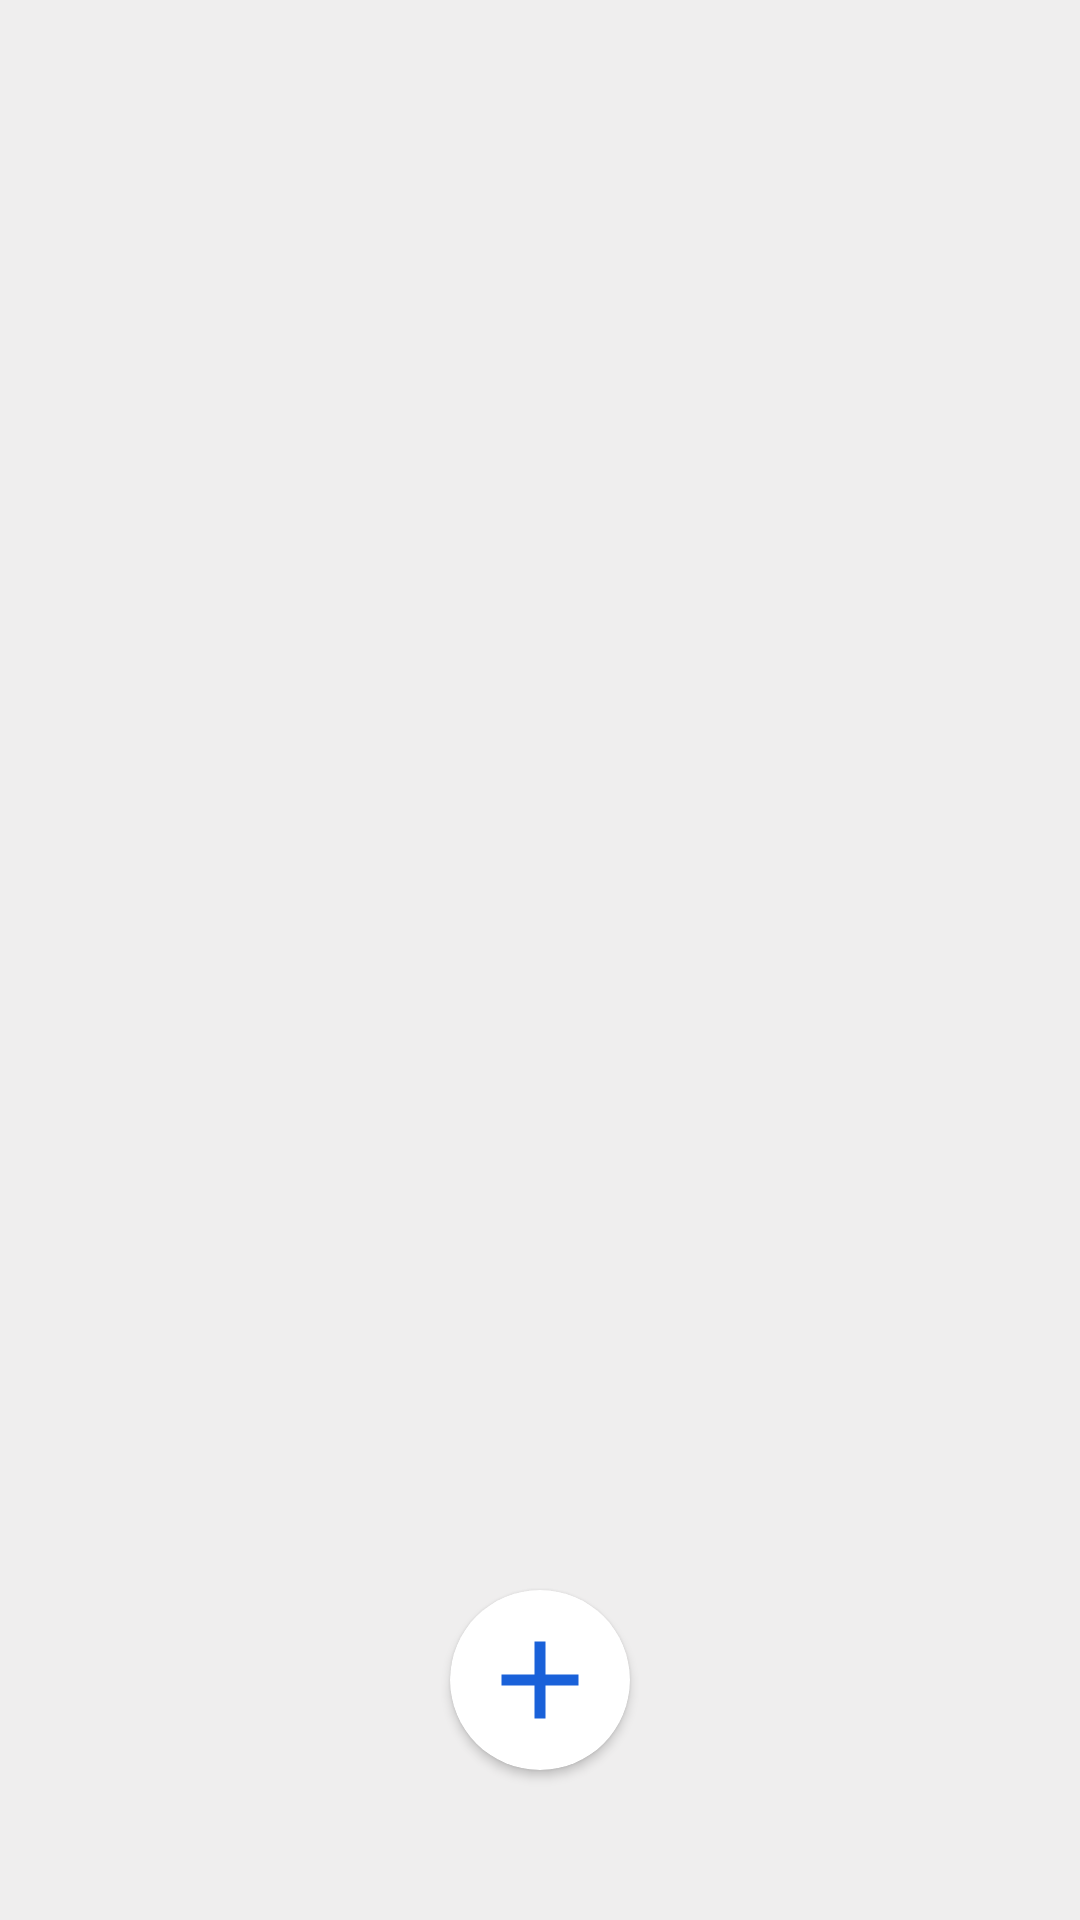

Where to tap for icons on this 1080*1920 app screen, as [x,y]:
add: [540,1680]
